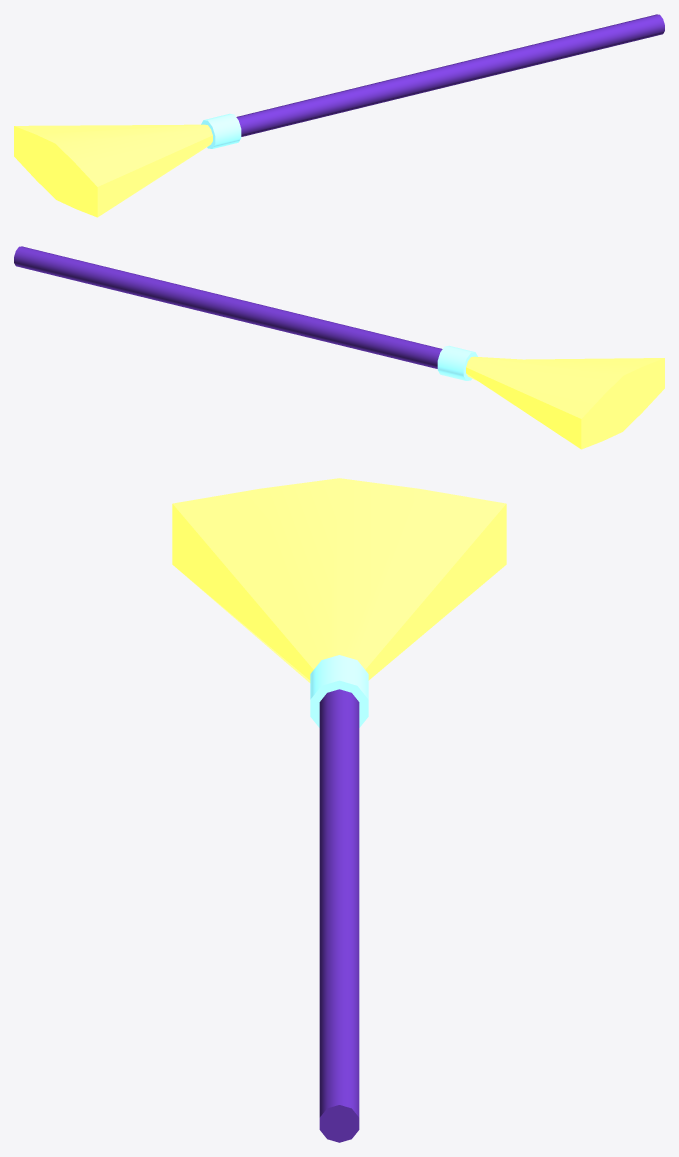
File: broom.fbx
The picture shows the model from 3 angles, top to bottom: view 1: azimuth 30°, elevation 25°; view 2: azimuth 150°, elevation 25°; view 3: azimuth 270°, elevation 25°; orthographic projection. The views are drawn at different scales.
Parts seen in each view (by area): view 1: broom; view 2: broom; view 3: broom.
Part boxes in pixels (x1,y1,x2,y2): broom: (14, 14, 664, 217); broom: (14, 246, 664, 449); broom: (172, 478, 506, 1142).
Size of the model in its own units: 191 by 799 by 70.66.
